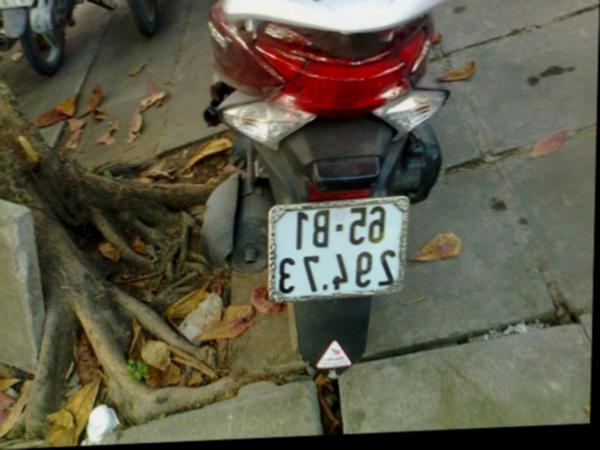License_Plate: (274, 198, 405, 302)
